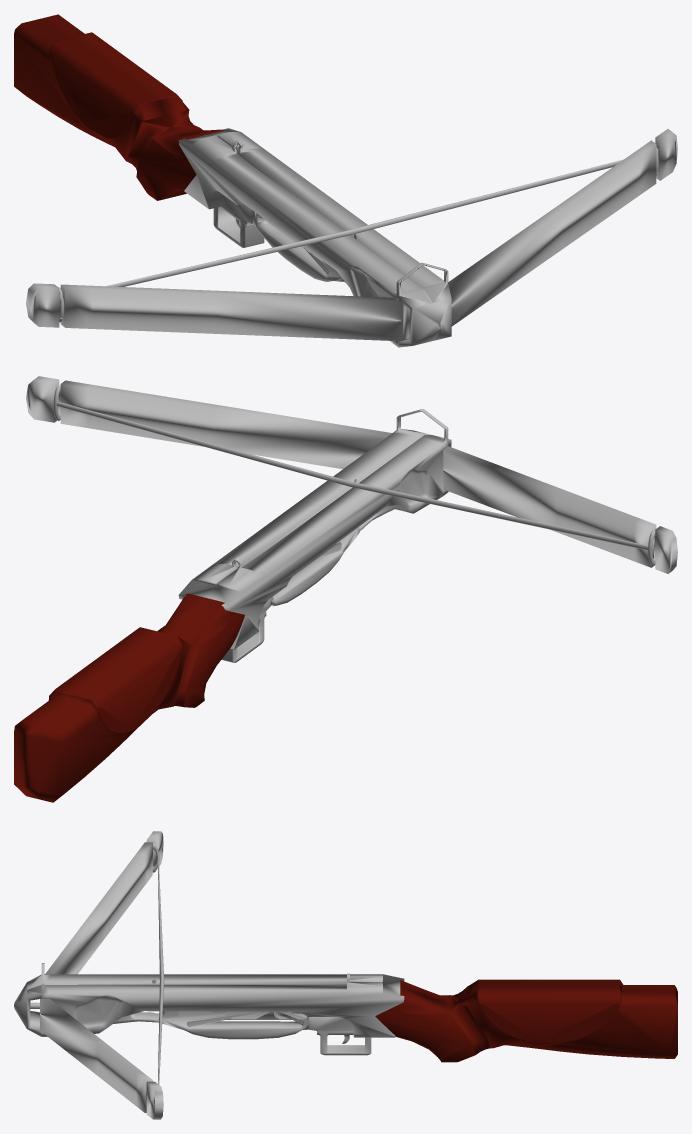
Rendered from CrossBow.fbx.
The picture shows the model from 3 angles, top to bottom: view 1: azimuth 30°, elevation 25°; view 2: azimuth 150°, elevation 25°; view 3: azimuth 270°, elevation 25°; orthographic projection. The views are drawn at different scales.
Visible parts, largest first — view 1: CrossBow, String; view 2: CrossBow, String; view 3: CrossBow, String.
Boxes of the visible parts, x1=… form: CrossBow: x1=14, y1=14, x2=677, y2=347; String: x1=106, y1=159, x2=623, y2=286; CrossBow: x1=14, y1=376, x2=677, y2=802; String: x1=56, y1=401, x2=651, y2=550; CrossBow: x1=14, y1=831, x2=677, y2=1119; String: x1=157, y1=855, x2=164, y2=1084.
Bounding box in the file's own units: 2716 × 460 × 2924.
